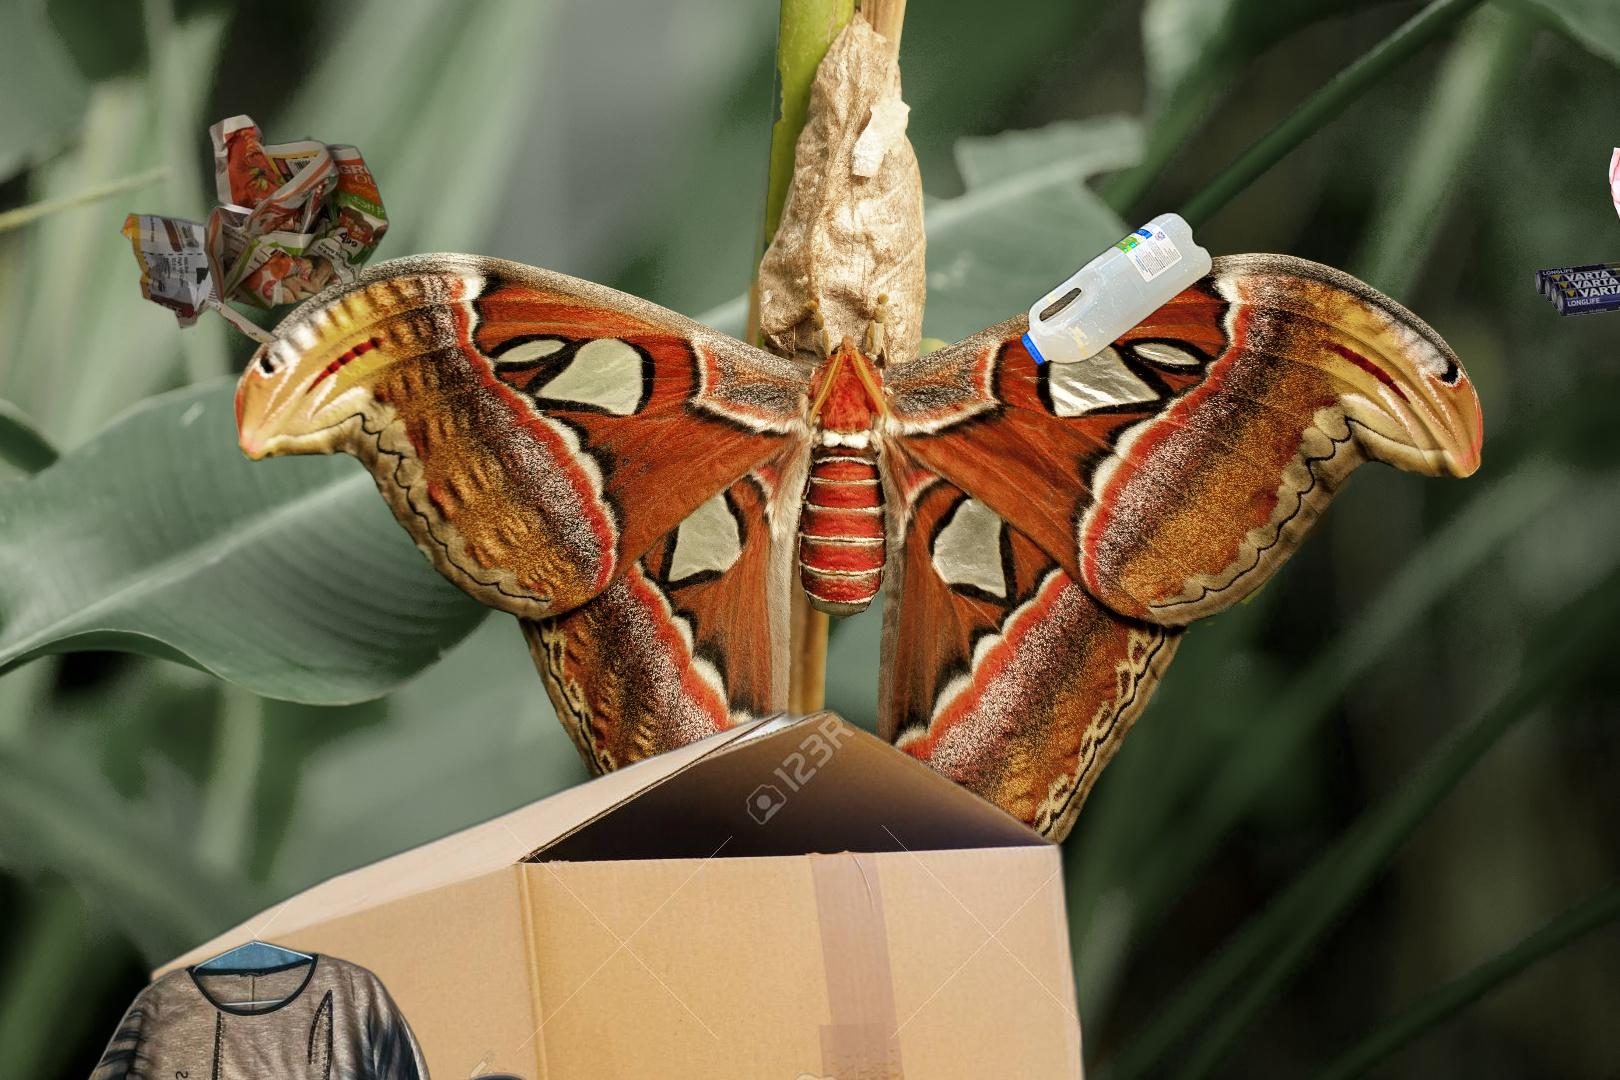battery: (1533, 247, 1620, 319)
clothes: (71, 900, 471, 1080)
paper: (117, 112, 393, 346)
plastic-bag: (1606, 46, 1620, 278)
plastic-bottles: (1016, 206, 1217, 371)
shoes: (247, 1069, 612, 1080)
trashbox-cardboard: (139, 685, 1115, 1080)
